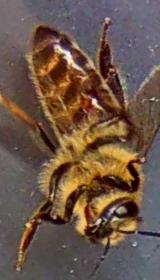varroa_mite: (72, 88, 104, 126)
